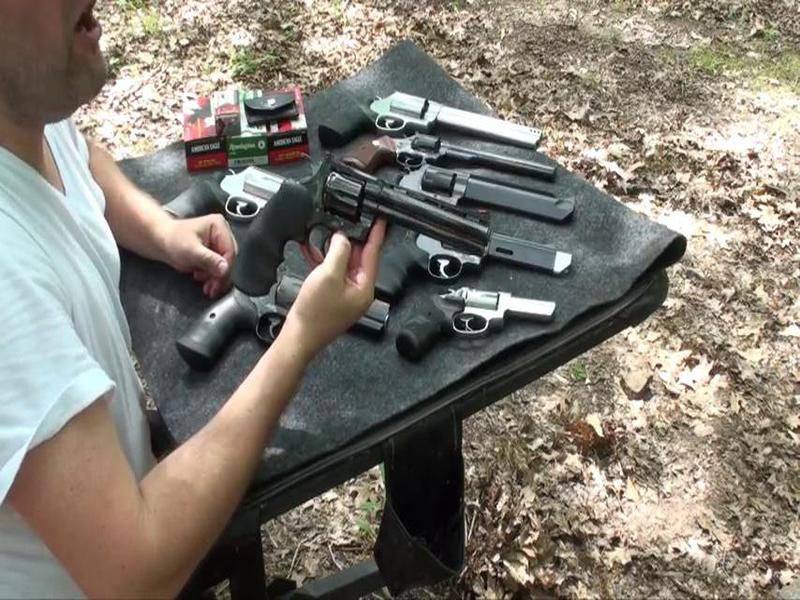Revolver: (239, 148, 510, 312)
